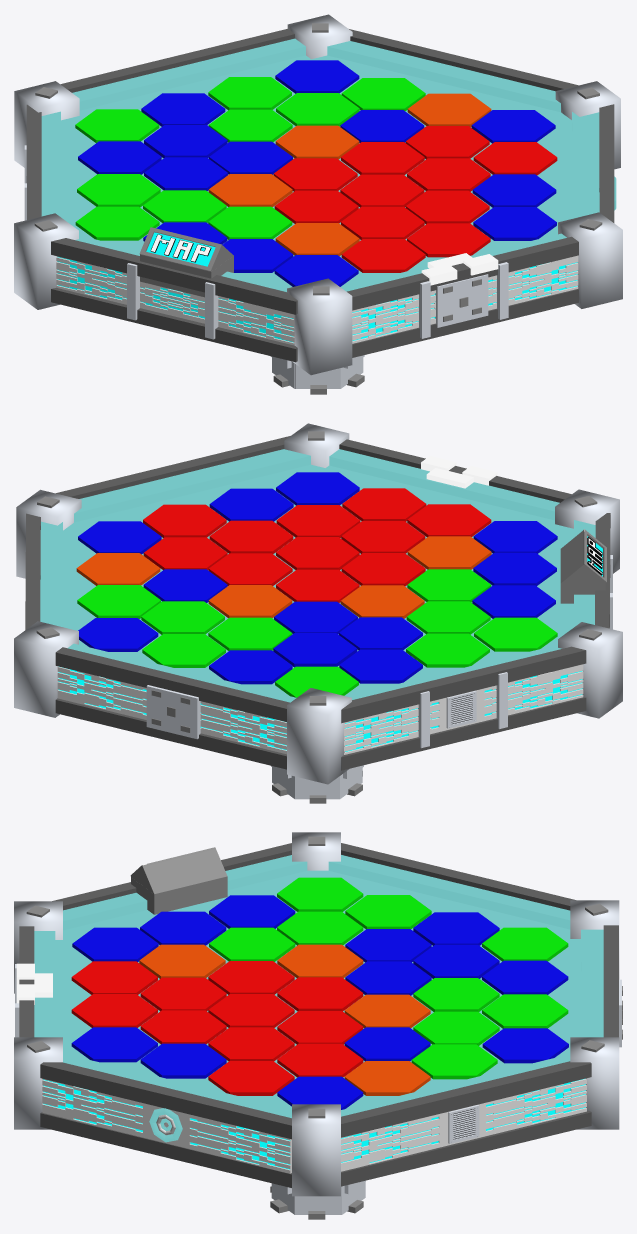
File: Holomap 3.0 .glb
The picture shows the model from 3 angles, top to bottom: view 1: azimuth 30°, elevation 25°; view 2: azimuth 150°, elevation 25°; view 3: azimuth 270°, elevation 25°; orthographic projection. The views are drawn at different scales.
Parts seen in each view (by area): view 1: Cylinder.002, Cube.033, Cube.028, Cube.005, Cube.019, Cube.001, Cube.020, Cube.004, Cube.011, Cube.012, Cube.015, Cube.013 (+52 smaller); view 2: Cylinder.002, Cube.031, Cube.029, Cube.017, Cube.003, Cube.015, Cube.002, Cube.004, Cube.018, Cube.016, Cube.009, Cylinder.031 (+50 smaller); view 3: Cylinder.002, Cube.032, Cube.030, Cube.009, Cube.013, Cube, Cube.014, Cube.010, Cube.002, Cube.001, Cube.017, Cylinder (+47 smaller).
Part boxes in pixels (bbox=[...]): Cylinder.002: bbox=[41, 38, 599, 291]; Cube.033: bbox=[56, 256, 294, 345]; Cube.028: bbox=[352, 255, 578, 343]; Cube.005: bbox=[287, 278, 352, 375]; Cube.019: bbox=[51, 238, 297, 314]; Cube.001: bbox=[558, 212, 622, 308]; Cube.020: bbox=[51, 287, 297, 362]; Cube.004: bbox=[14, 213, 78, 309]; Cube.011: bbox=[347, 236, 578, 310]; Cube.012: bbox=[352, 289, 578, 357]; Cube.015: bbox=[60, 28, 294, 92]; Cube.013: bbox=[349, 29, 578, 91]; Cylinder.002: bbox=[40, 449, 595, 702]; Cube.031: bbox=[344, 664, 583, 754]; Cube.029: bbox=[57, 666, 286, 754]; Cube.017: bbox=[341, 646, 586, 723]; Cube.003: bbox=[287, 688, 351, 784]; Cube.015: bbox=[55, 647, 289, 721]; Cube.002: bbox=[14, 621, 78, 717]; Cube.004: bbox=[558, 622, 622, 718]; Cube.018: bbox=[341, 697, 586, 770]; Cube.016: bbox=[55, 698, 286, 769]; Cube.009: bbox=[56, 436, 290, 498]; Cylinder.031: bbox=[406, 633, 489, 667]; Cylinder.002: bbox=[34, 855, 603, 1118]; Cube.032: bbox=[42, 1078, 291, 1173]; Cube.030: bbox=[341, 1078, 586, 1171]; Cube.009: bbox=[40, 1062, 291, 1139]; Cube.013: bbox=[341, 1061, 591, 1137]; Cube: bbox=[292, 1104, 340, 1196]; Cube.014: bbox=[341, 1111, 591, 1186]; Cube.010: bbox=[40, 1112, 291, 1187]; Cube.002: bbox=[570, 1037, 619, 1129]; Cube.001: bbox=[14, 1037, 62, 1129]; Cube.017: bbox=[341, 843, 575, 910]; Cylinder: bbox=[130, 847, 227, 893].
Size of the model in its own units: 9.64 by 3.74 by 8.47.
